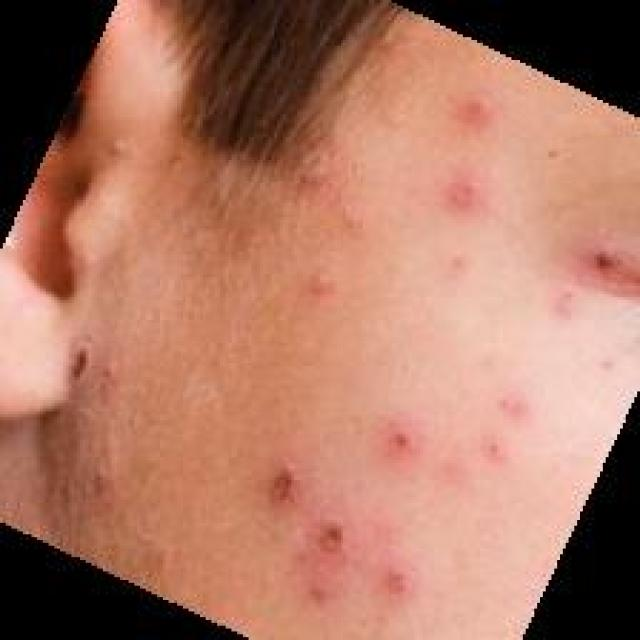others: (77, 0, 588, 586)
